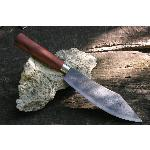Golok: (11, 29, 145, 125)
